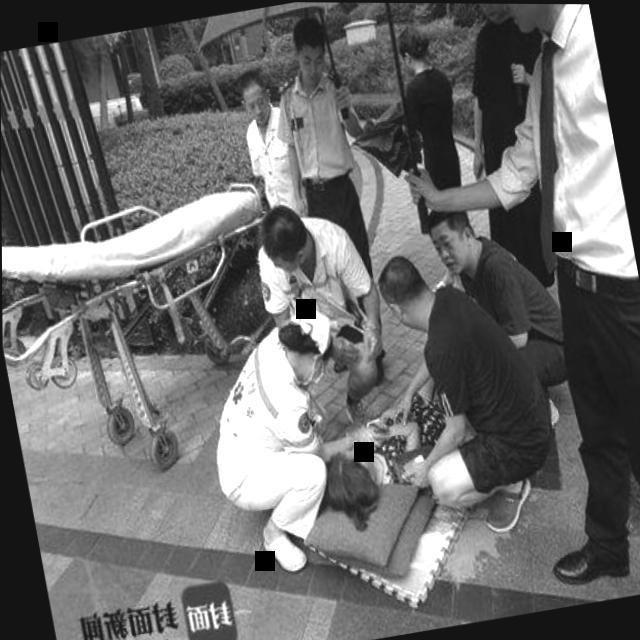Fall-Detected: (309, 384, 459, 522)
